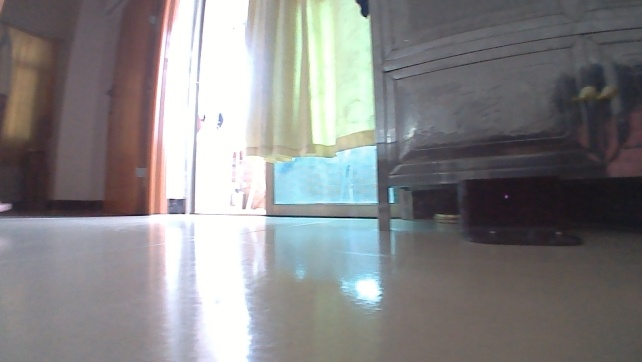charger: (456, 170, 587, 249)
door_anno: (101, 0, 164, 217)
